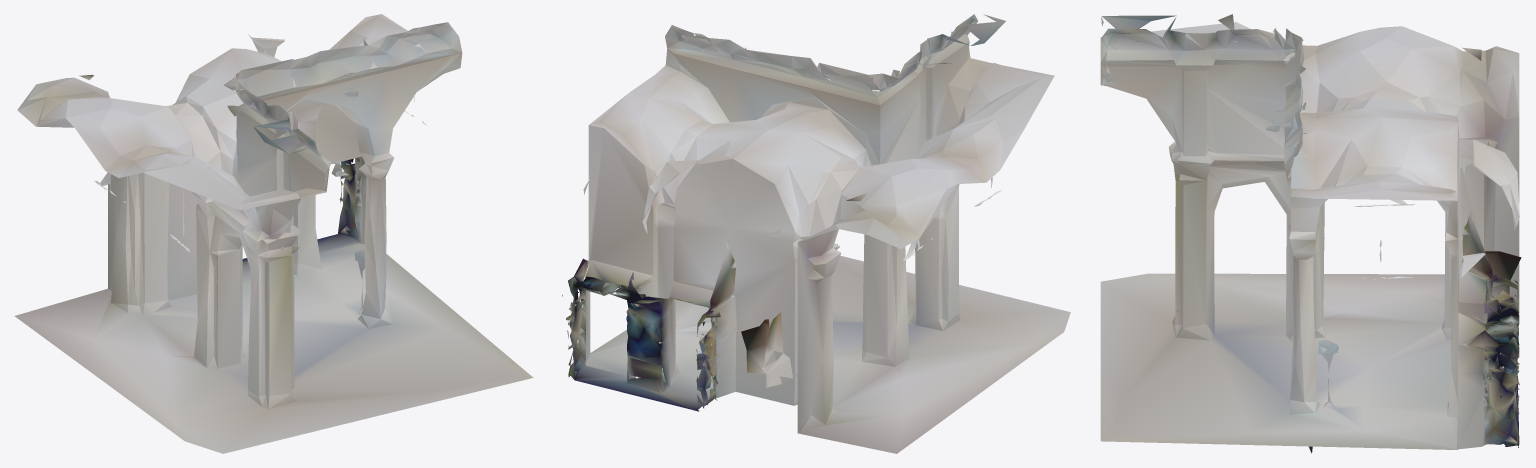
The picture shows the model from 3 angles, left to right: view 1: azimuth 30°, elevation 25°; view 2: azimuth 150°, elevation 25°; view 3: azimuth 270°, elevation 25°; orthographic projection. The views are drawn at different scales.
Size of the model in its own units: 10.14 by 9.09 by 10.08.
